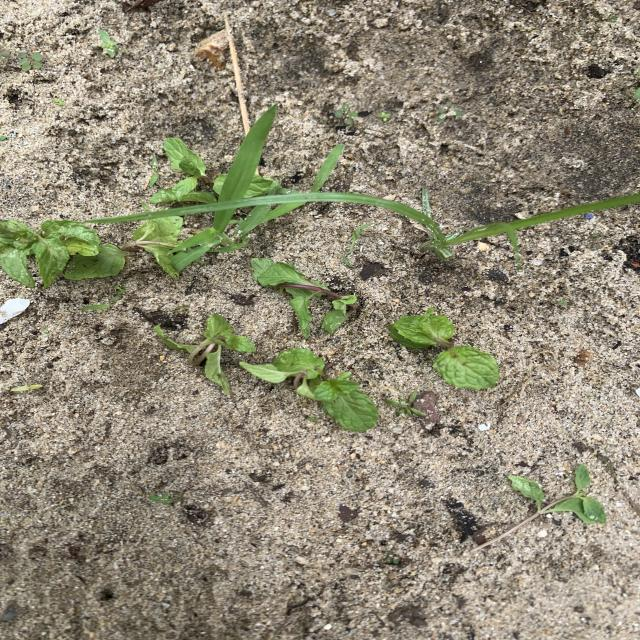crop: (240, 348, 378, 432), (473, 464, 606, 549), (389, 308, 499, 390), (251, 258, 357, 339), (0, 220, 126, 287), (154, 314, 254, 394), (149, 138, 216, 203), (122, 221, 182, 279), (248, 175, 273, 196)
weed: (278, 192, 640, 260), (173, 213, 274, 270), (220, 119, 268, 201), (310, 144, 344, 192), (275, 202, 320, 217)
